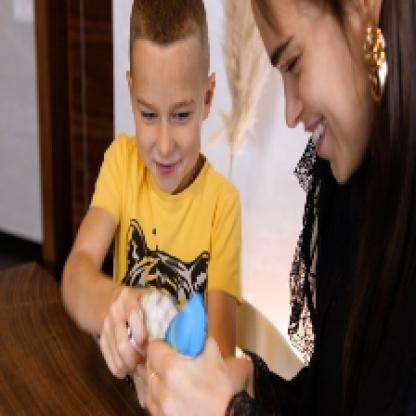child: (59, 1, 243, 380)
